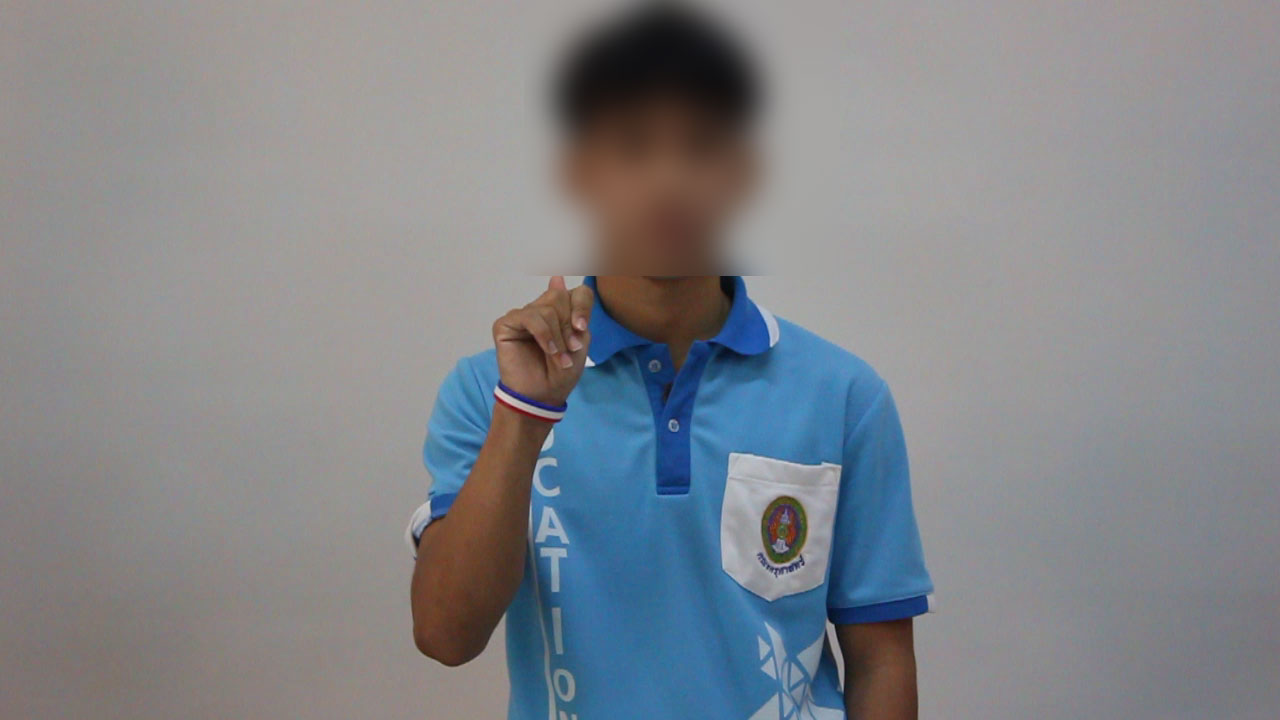tor: (473, 254, 623, 438)
